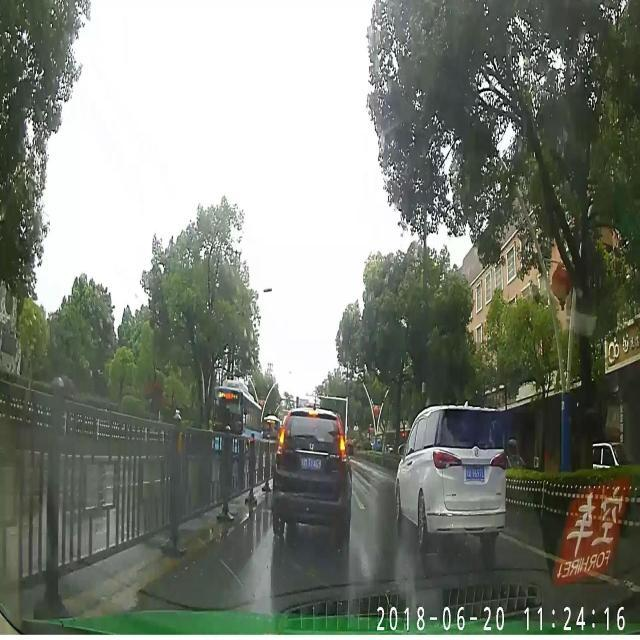car: (396, 398, 506, 550), (271, 406, 352, 542)
